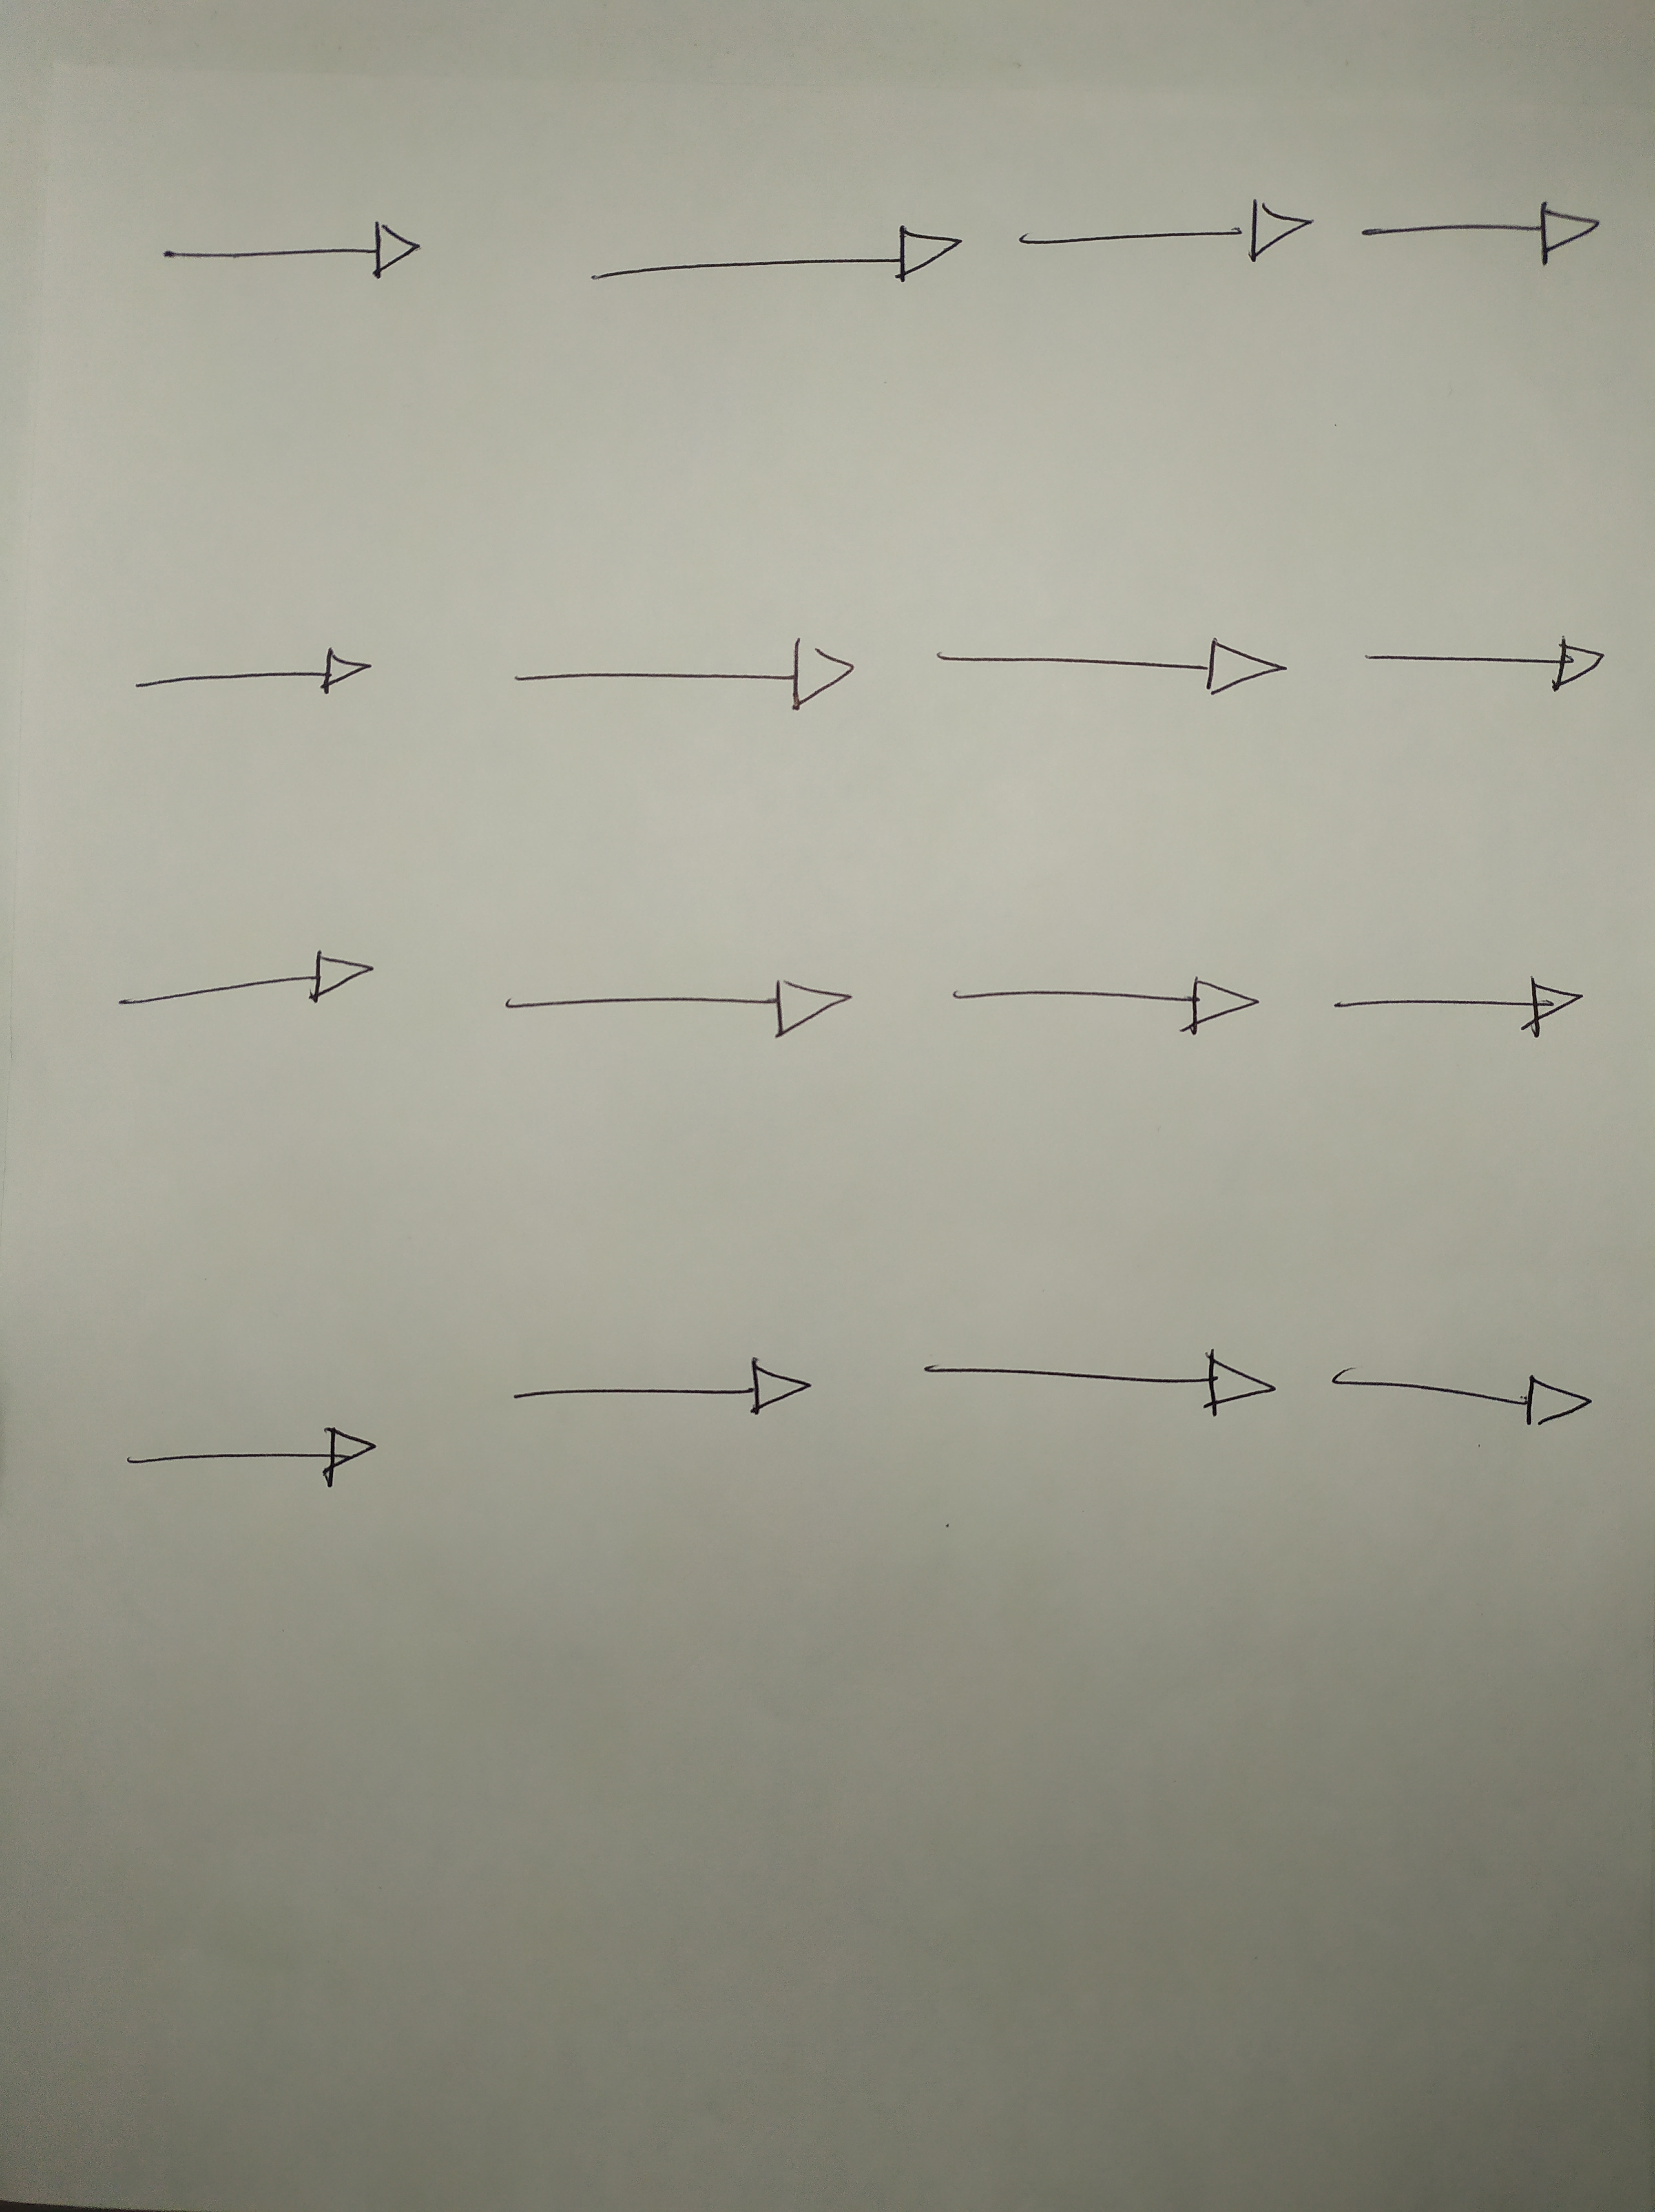arrow_line_right: (459, 950, 887, 1070), (567, 198, 974, 323), (907, 603, 1307, 726), (487, 605, 861, 730), (890, 1328, 1304, 1435), (476, 1336, 867, 1440), (103, 933, 407, 1060), (994, 182, 1318, 301), (918, 949, 1276, 1055), (1292, 950, 1631, 1051), (125, 200, 462, 301), (101, 1397, 424, 1500), (1335, 594, 1622, 709), (1321, 1343, 1618, 1451), (116, 622, 386, 721), (1346, 179, 1618, 276)
